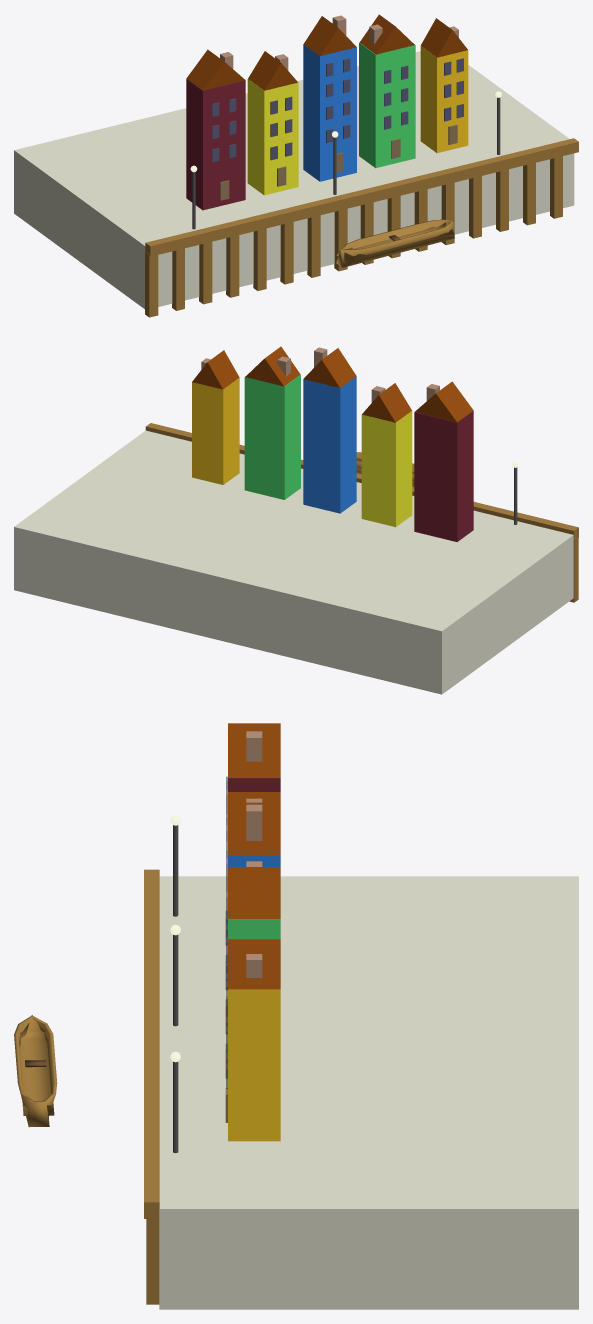
Rendered from copenhagen.glb.
3 renders of one model, top to bottom at view 1: azimuth 30°, elevation 25°; view 2: azimuth 150°, elevation 25°; view 3: azimuth 270°, elevation 25°, orthographic. The views are drawn at different scales.
Visible parts, largest first — view 1: Ground, Cube.001, Nyhavn_Building_Red, Nyhavn_Building_Blue, Nyhavn_Building_Green, Nyhavn_Building_Yellow, Nyhavn_Building_Orange, Canoe, Roof_Nyhavn_Building_Red.001, Roof_Nyhavn_Building_Blue, Roof_Nyhavn_Building_Yellow, Roof_Nyhavn_Building_Orange (+17 smaller); view 2: Ground, Nyhavn_Building_Red, Nyhavn_Building_Blue, Nyhavn_Building_Green, Nyhavn_Building_Yellow, Nyhavn_Building_Orange, Cube.001, Roof_Nyhavn_Building_Red.001, Roof_Nyhavn_Building_Blue, Roof_Nyhavn_Building_Yellow, Roof_Nyhavn_Building_Orange, Roof_Nyhavn_Building_Green; view 3: Ground, Nyhavn_Building_Orange, Cube.001, Canoe, Roof_Nyhavn_Building_Green, Roof_Nyhavn_Building_Red.001, Roof_Nyhavn_Building_Orange, Roof_Nyhavn_Building_Blue, Cube.011, Nyhavn_Building_Green, Nyhavn_Building_Red.
Boxes of the visible parts, left/top/right/bottom form: Ground: left=14, top=51, right=574, bottom=308; Cube.001: left=145, top=138, right=578, bottom=256; Nyhavn_Building_Red: left=186, top=79, right=245, bottom=210; Nyhavn_Building_Blue: left=303, top=44, right=356, bottom=181; Nyhavn_Building_Green: left=359, top=42, right=415, bottom=168; Nyhavn_Building_Yellow: left=247, top=79, right=298, bottom=195; Nyhavn_Building_Orange: left=420, top=46, right=468, bottom=153; Canoe: left=336, top=219, right=454, bottom=267; Roof_Nyhavn_Building_Red.001: left=186, top=49, right=245, bottom=90; Roof_Nyhavn_Building_Blue: left=303, top=16, right=356, bottom=56; Roof_Nyhavn_Building_Yellow: left=248, top=51, right=297, bottom=90; Roof_Nyhavn_Building_Orange: left=421, top=18, right=467, bottom=57; Ground: left=14, top=430, right=573, bottom=694; Nyhavn_Building_Red: left=414, top=411, right=473, bottom=541; Nyhavn_Building_Blue: left=303, top=376, right=356, bottom=513; Nyhavn_Building_Green: left=244, top=374, right=300, bottom=499; Nyhavn_Building_Yellow: left=361, top=411, right=412, bottom=527; Nyhavn_Building_Orange: left=192, top=378, right=239, bottom=484; Cube.001: left=145, top=423, right=578, bottom=539; Roof_Nyhavn_Building_Red.001: left=415, top=381, right=473, bottom=422; Roof_Nyhavn_Building_Blue: left=303, top=348, right=356, bottom=387; Roof_Nyhavn_Building_Yellow: left=362, top=383, right=411, bottom=422; Roof_Nyhavn_Building_Orange: left=192, top=350, right=239, bottom=389; Roof_Nyhavn_Building_Green: left=245, top=346, right=300, bottom=386; Ground: left=159, top=876, right=578, bottom=1309; Nyhavn_Building_Orange: left=228, top=989, right=280, bottom=1141; Cube.001: left=144, top=869, right=159, bottom=1218; Canoe: left=14, top=1015, right=57, bottom=1127; Roof_Nyhavn_Building_Green: left=228, top=867, right=280, bottom=919; Roof_Nyhavn_Building_Red.001: left=228, top=723, right=280, bottom=777; Roof_Nyhavn_Building_Orange: left=228, top=939, right=280, bottom=989; Roof_Nyhavn_Building_Blue: left=228, top=802, right=280, bottom=855; Cube.011: left=146, top=1219, right=159, bottom=1304; Nyhavn_Building_Green: left=228, top=919, right=280, bottom=939; Nyhavn_Building_Red: left=228, top=778, right=280, bottom=791.
Bounding box in the file's own units: 15.02 × 7.36 × 10.77.
